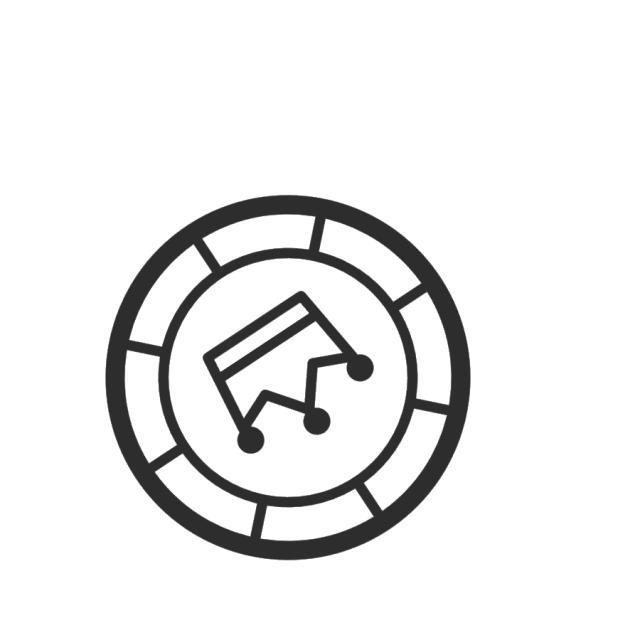coin: (101, 188, 479, 572)
